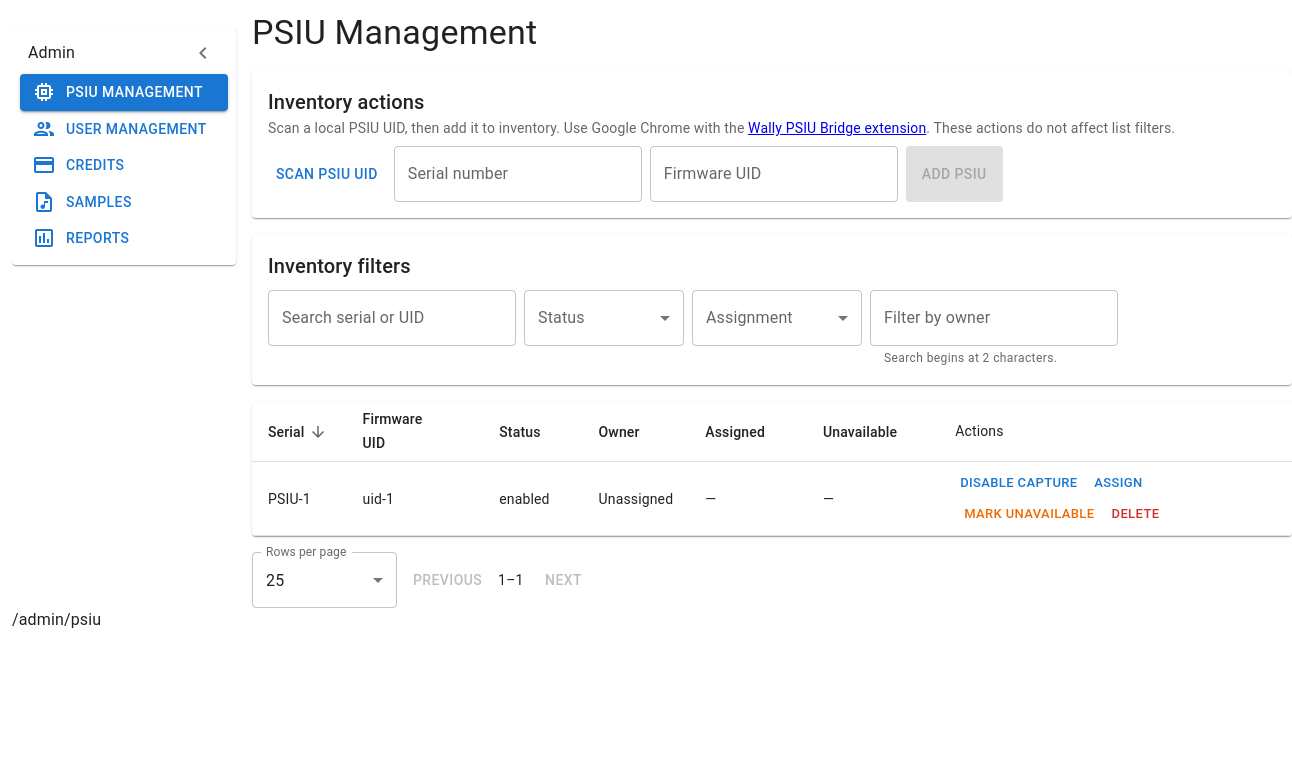
Test: administrator directory tables › renders separated PSIU inventory and assignment workspaces
Expected: the text "PSIU-1" is shown, [252, 462, 346, 536]
Expected: the heading "Inventory actions" is shown, [268, 90, 425, 114]
Click the button "Assign".
click(1118, 483)  # box [1086, 468, 1150, 499]
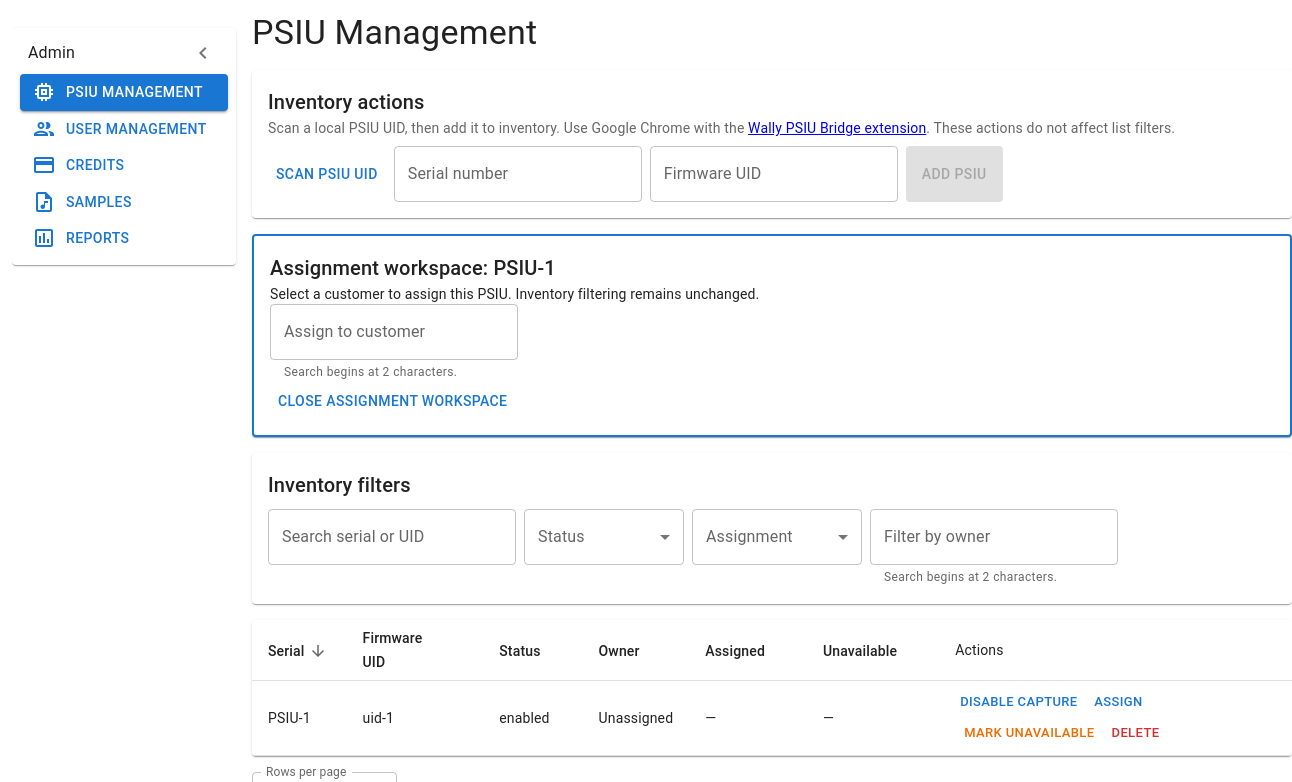
Expected: the heading "Assignment workspace: PSIU-1" is shown, [270, 256, 556, 280]
